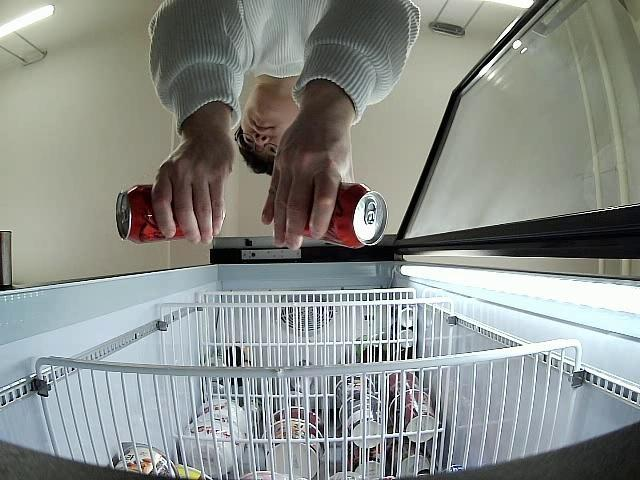11_cocaColaZero: (117, 181, 221, 242), (302, 178, 388, 250)
